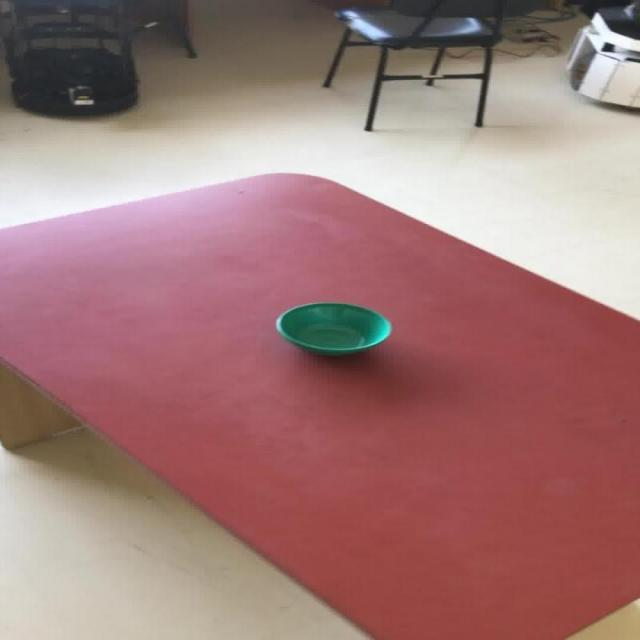Bowl: (274, 301, 391, 356)
